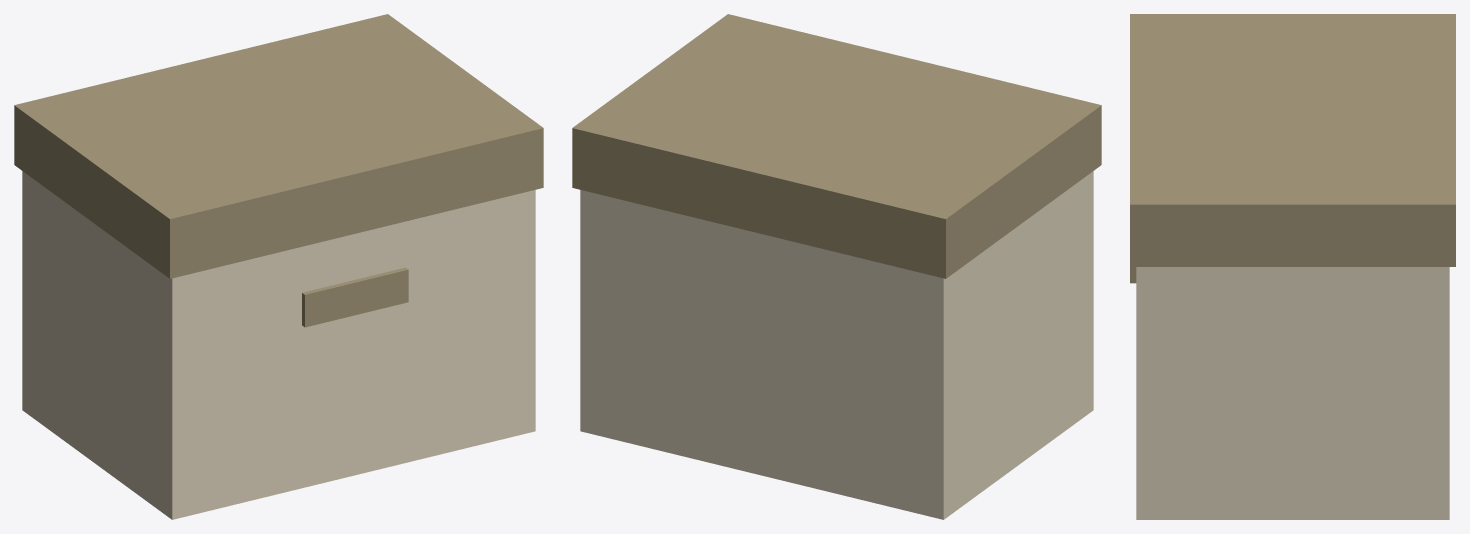
Rendered from bankbox.glb.
3 views of the same model, side by side, from view 1: azimuth 30°, elevation 25°; view 2: azimuth 150°, elevation 25°; view 3: azimuth 270°, elevation 25° (orthographic). The views are drawn at different scales.
Visible parts, largest first — view 1: bankbox; view 2: bankbox; view 3: bankbox.
Boxes of the visible parts, x1,y1,x2,y2 form: bankbox: (14, 14, 543, 519); bankbox: (572, 14, 1101, 519); bankbox: (1130, 14, 1455, 519).
Bounding box in the file's own units: 0.36 × 0.28 × 0.26.
Materials: 1 (1 with a texture image).
